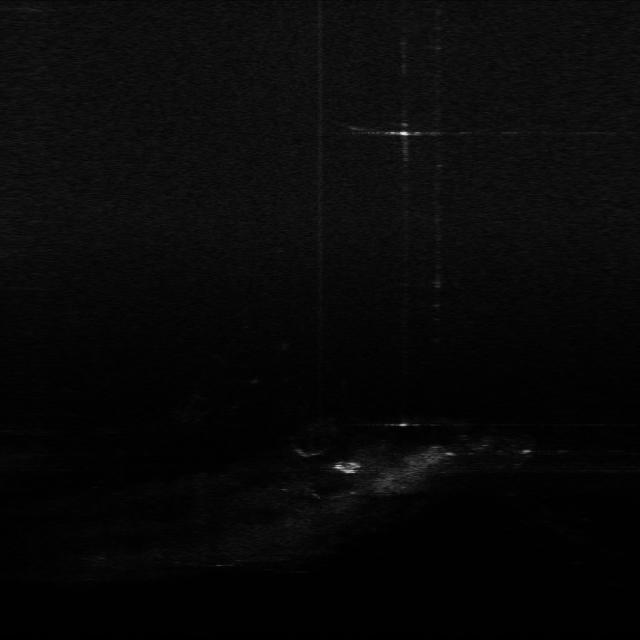rov: (331, 459, 362, 476)
